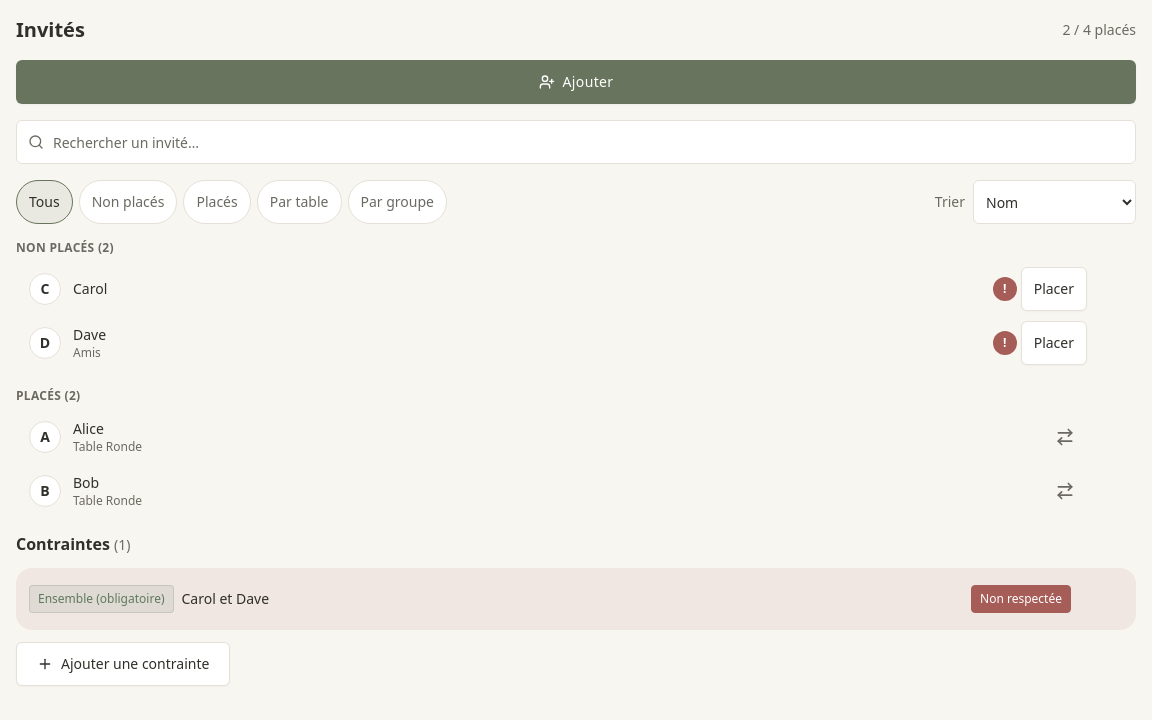
GuestListPanel › filters the list through the debounced search
This screenshot has width=1152, height=720.
In the search field: (576, 142) [16,120,1136,164], type "ali"
Wait 200 ms
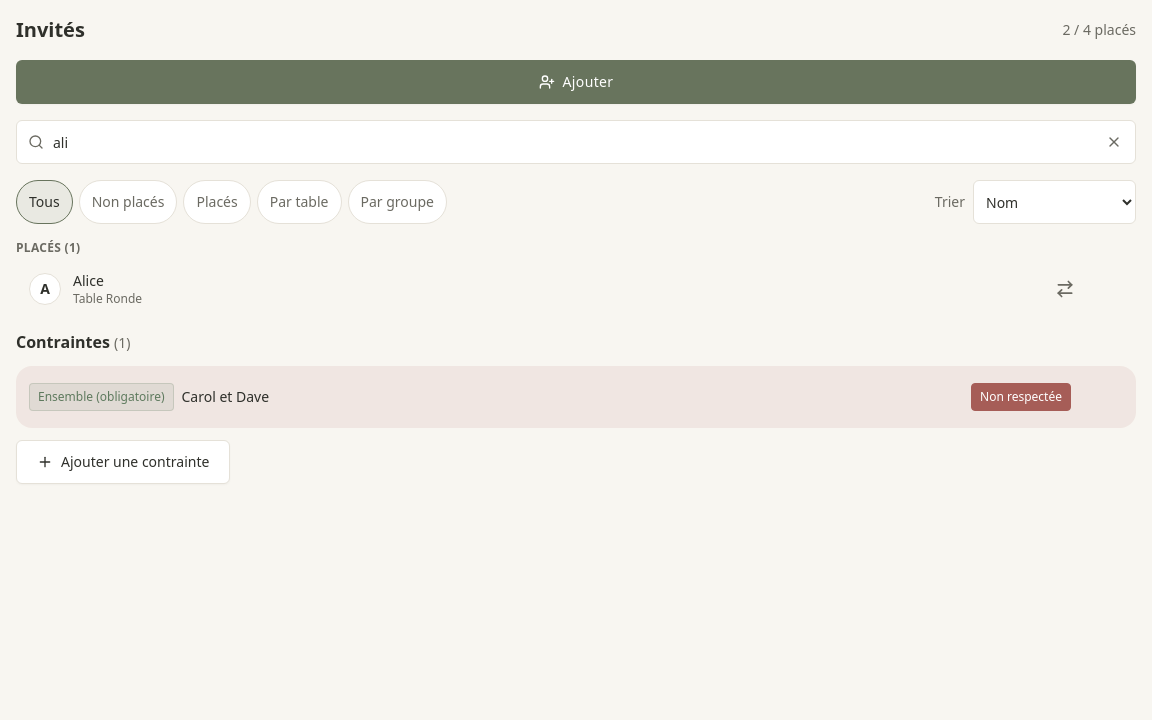
Expected: the button "A Alice Table Ronde" is shown, [17,265,1039,313]
Result: the button "Bob" is gone
Replace the text in the search field with "amis": (576, 142) [16,120,1136,164]
Wait 200 ms
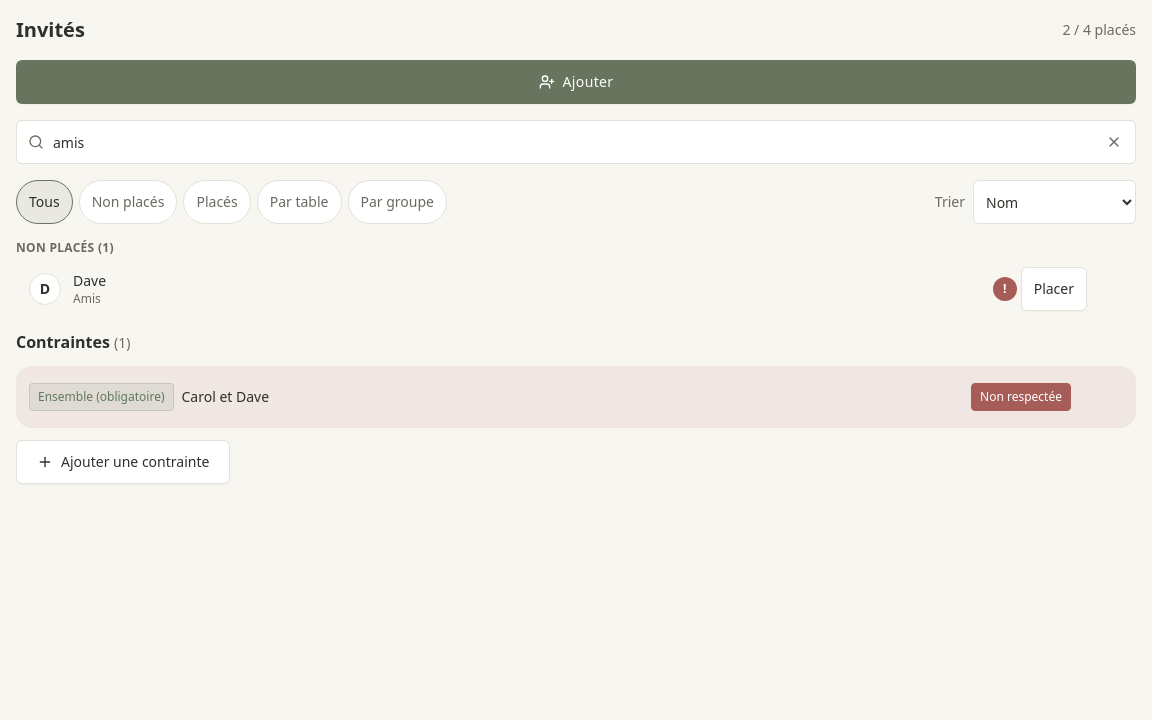
Expected: the button "D Dave Amis" is shown, [17,265,989,313]
Result: the button "Alice" is gone
Replace the text in the search field with "zzz": (576, 142) [16,120,1136,164]
Wait 200 ms
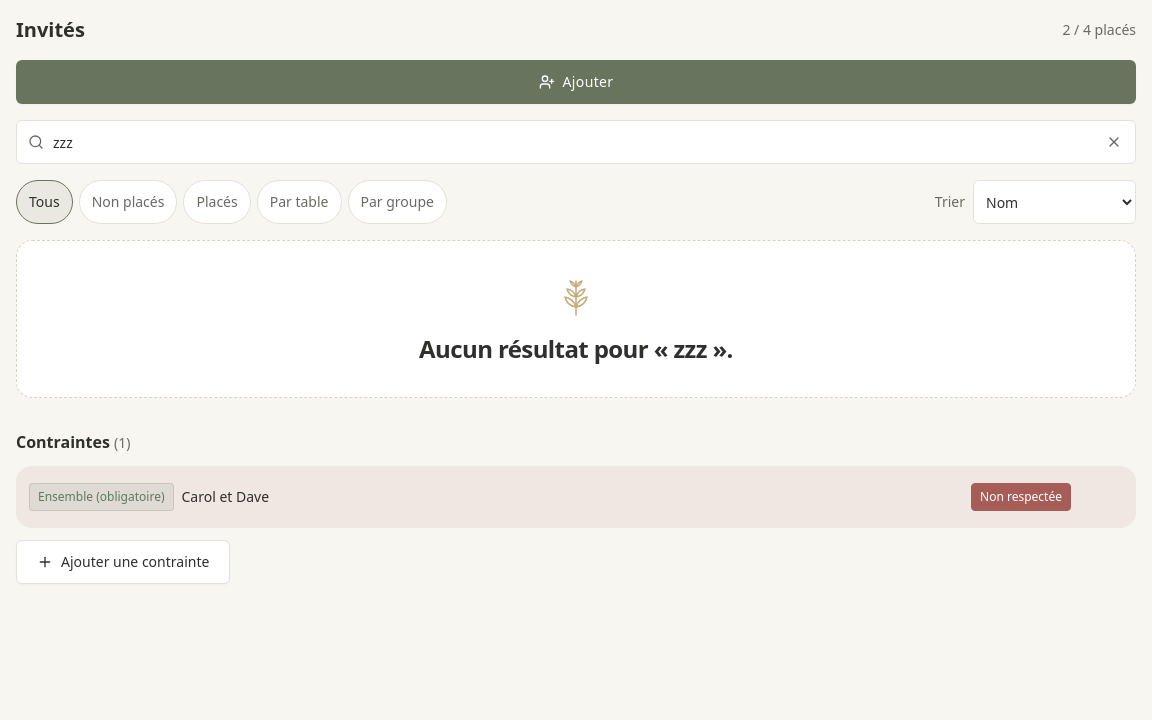
Result: the text "Aucun résultat pour « zzz »." is shown at [419,332,733,365]
